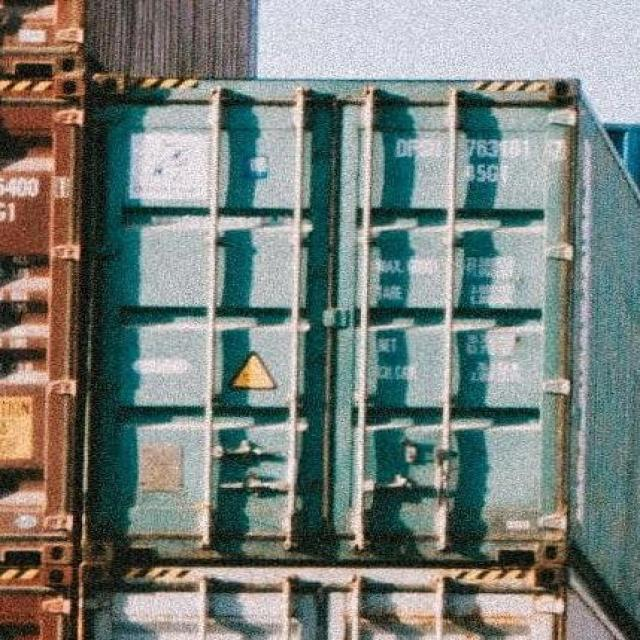ISO: (458, 158, 512, 188)
container_number: (394, 138, 570, 164)
